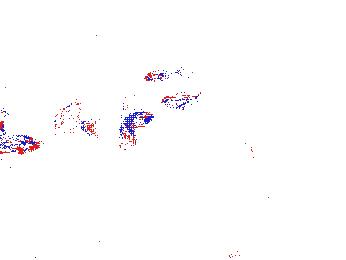X-ray fish: (130, 11, 163, 52)
red belly glassfish: (143, 63, 184, 85), (157, 92, 202, 111)
redtail glassfish: (113, 98, 158, 141), (1, 125, 49, 160), (66, 98, 101, 143), (236, 134, 256, 163)
